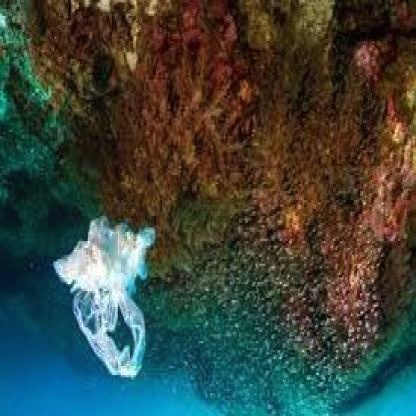pbag: (50, 209, 154, 387)
